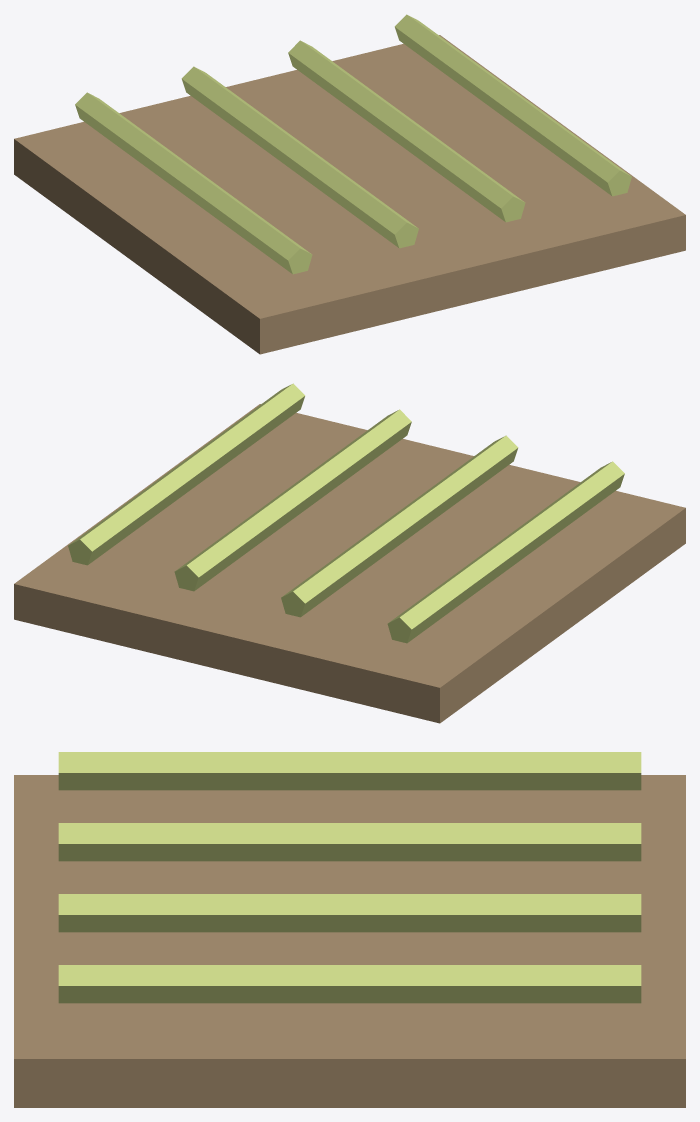
The model's file is Farm.fbx.
3 renders of one model, top to bottom at view 1: azimuth 30°, elevation 25°; view 2: azimuth 150°, elevation 25°; view 3: azimuth 270°, elevation 25°, orthographic. The views are drawn at different scales.
Parts seen in each view (by area): view 1: Soil, Row.001, Row.003, Row.002, Row; view 2: Soil, Row.001, Row.003, Row.002, Row; view 3: Soil, Row, Row.001, Row.002, Row.003.
Part boxes in pixels (left/top/right/bottom): Soil: left=14, top=35, right=685, bottom=354; Row.001: left=181, top=66, right=418, bottom=248; Row.003: left=394, top=14, right=631, bottom=196; Row.002: left=288, top=40, right=525, bottom=222; Row: left=75, top=92, right=312, bottom=274; Soil: left=14, top=404, right=685, bottom=723; Row.001: left=281, top=435, right=518, bottom=617; Row.003: left=68, top=383, right=305, bottom=565; Row.002: left=174, top=409, right=411, bottom=591; Row: left=387, top=461, right=624, bottom=643; Soil: left=14, top=775, right=685, bottom=1107; Row: left=58, top=752, right=641, bottom=790; Row.001: left=58, top=823, right=641, bottom=861; Row.002: left=58, top=894, right=641, bottom=932; Row.003: left=58, top=965, right=641, bottom=1003.
Bounding box in the file's own units: 300 × 54 × 300.
